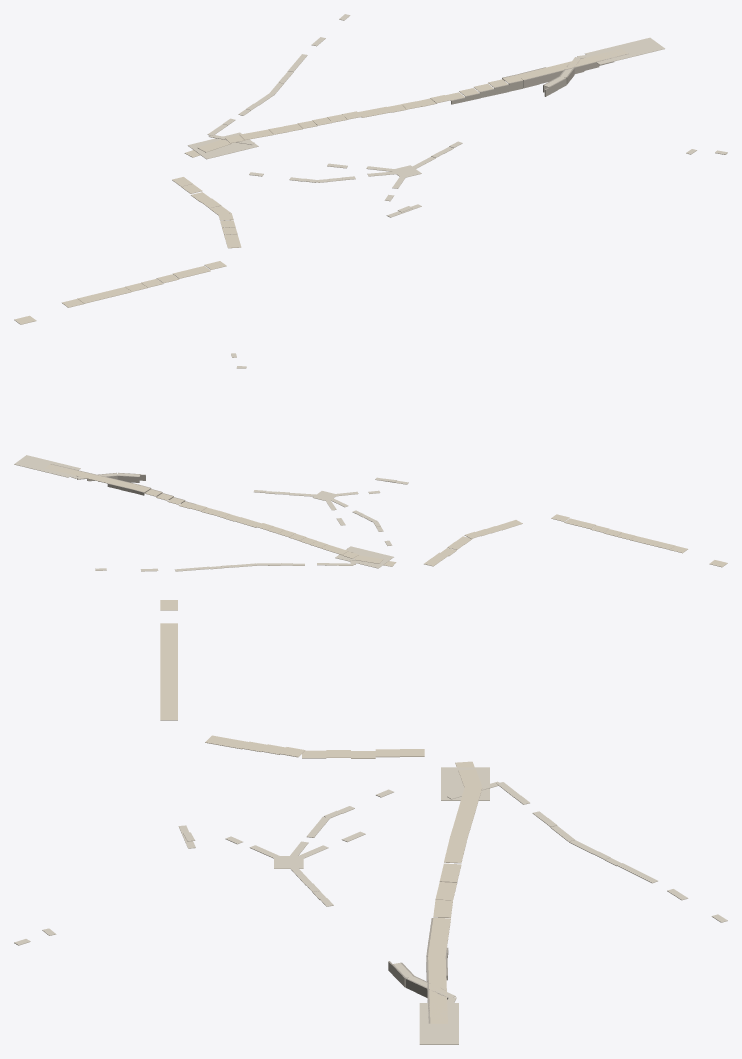
File: site-grounds.lod1.glb
3 renders of one model, top to bottom at view 1: azimuth 30°, elevation 25°; view 2: azimuth 150°, elevation 25°; view 3: azimuth 270°, elevation 25°, orthographic. The views are drawn at different scales.
Size of the model in its own units: 227 by 15.56 by 145.
